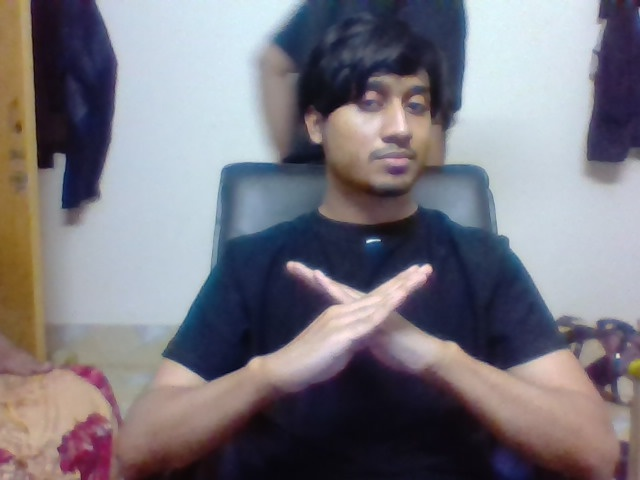X: (267, 245, 461, 379)
